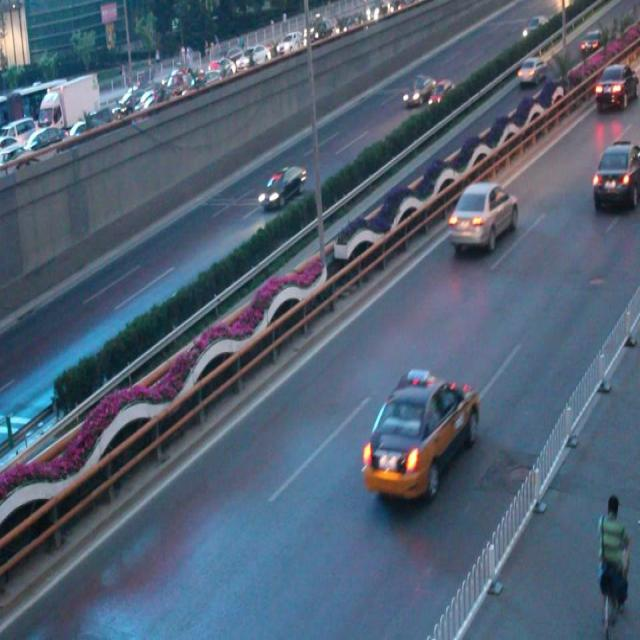car: (361, 368, 476, 500), (446, 182, 517, 254), (590, 142, 640, 205), (257, 164, 305, 210), (402, 72, 434, 107), (424, 77, 452, 109)
